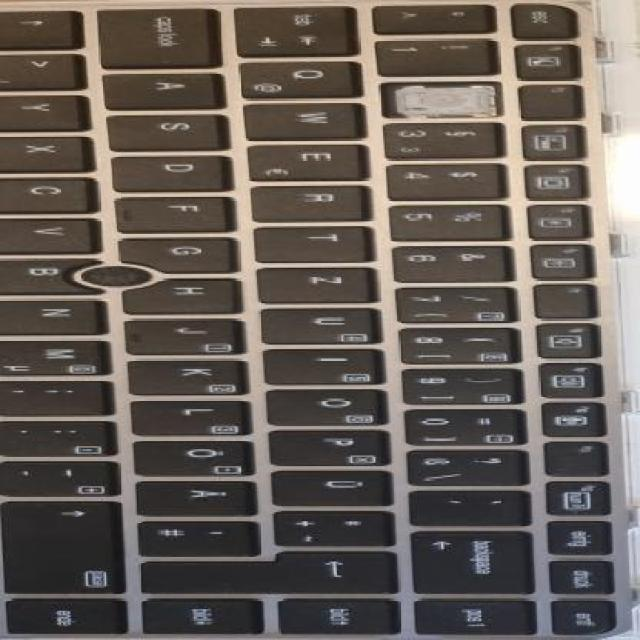Keyboard problems: (386, 85, 497, 115)
